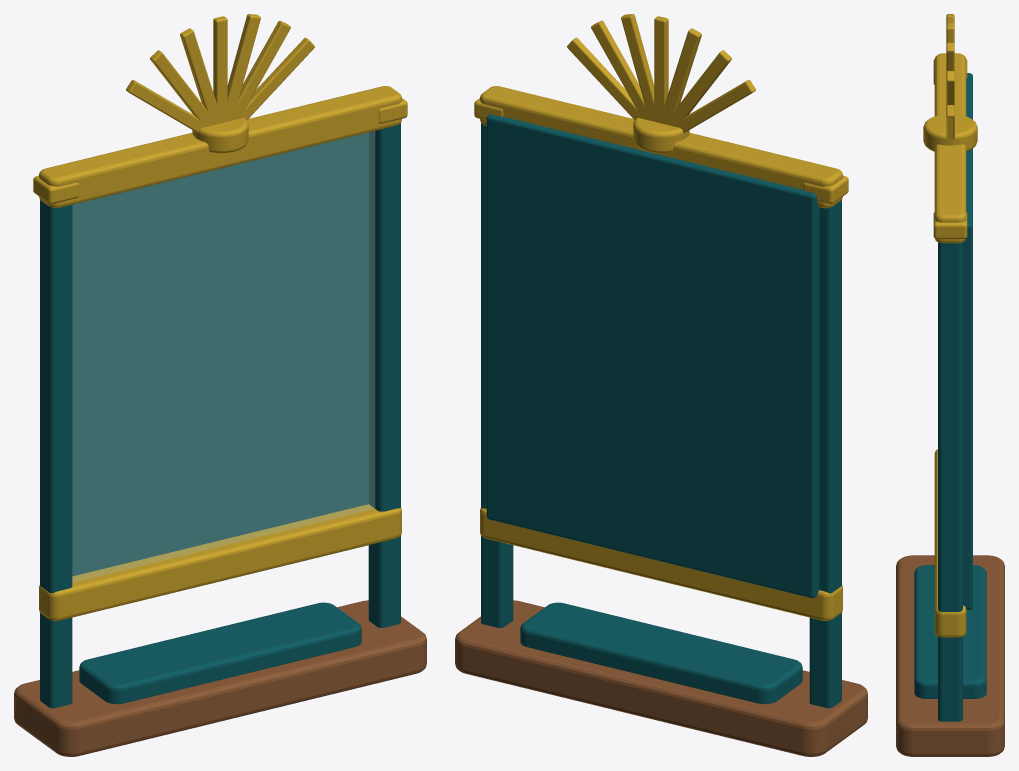
Rendered from lobby-mirror.glb.
3 views of the same model, side by side, from view 1: azimuth 30°, elevation 25°; view 2: azimuth 150°, elevation 25°; view 3: azimuth 270°, elevation 25° (orthographic). The views are drawn at different scales.
Visible parts, largest first — view 1: glass, frame.back, foot, post.left, post.right, frame.bottom, foot.step, frame.top, crown.ray.4, crown.ray.5, crown.ray.3, crown.ray.6 (+5 smaller); view 2: frame.back, foot, foot.step, post.left, frame.top, frame.bottom, post.right, crown.ray.4, crown.ray.5, crown.ray.3, crown.ray.6, crown.hub (+4 smaller); view 3: foot, post.right, foot.step, frame.back, frame.top, frame.bottom, crown.hub, post.right.cap, crown.ray.6, crown.ray.5, crown.ray.4.
Part boxes in pixels (left/top/right/bottom): glass: left=72, top=131, right=374, bottom=582; frame.back: left=72, top=132, right=368, bottom=575; foot: left=14, top=600, right=426, bottom=756; post.left: left=40, top=200, right=72, bottom=708; post.right: left=368, top=123, right=400, bottom=627; frame.bottom: left=39, top=504, right=401, bottom=621; foot.step: left=79, top=602, right=361, bottom=704; frame.top: left=39, top=86, right=401, bottom=208; crown.ray.4: left=226, top=14, right=260, bottom=121; crown.ray.5: left=229, top=20, right=290, bottom=120; crown.ray.3: left=213, top=16, right=227, bottom=123; crown.ray.6: left=238, top=37, right=314, bottom=119; frame.back: left=486, top=114, right=819, bottom=598; foot: left=455, top=600, right=867, bottom=756; foot.step: left=520, top=602, right=802, bottom=704; post.left: left=809, top=200, right=841, bottom=708; frame.top: left=480, top=86, right=842, bottom=208; frame.bottom: left=480, top=508, right=842, bottom=621; post.right: left=481, top=123, right=513, bottom=627; crown.ray.4: left=621, top=14, right=655, bottom=121; crown.ray.5: left=591, top=20, right=652, bottom=121; crown.ray.3: left=654, top=16, right=668, bottom=123; crown.ray.6: left=567, top=37, right=644, bottom=119; crown.hub: left=633, top=118, right=689, bottom=153; foot: left=896, top=555, right=1004, bottom=756; post.right: left=938, top=242, right=962, bottom=721; foot.step: left=914, top=565, right=986, bottom=698; frame.back: left=963, top=73, right=972, bottom=609; frame.top: left=934, top=53, right=966, bottom=243; frame.bottom: left=934, top=449, right=966, bottom=637; crown.hub: left=923, top=114, right=977, bottom=151; post.right.cap: left=933, top=212, right=967, bottom=239; crown.ray.6: left=946, top=105, right=954, bottom=139; crown.ray.5: left=946, top=71, right=954, bottom=105; crown.ray.4: left=946, top=42, right=954, bottom=71.
Size of the model in its own units: 0.9 by 1.58 by 0.24.
